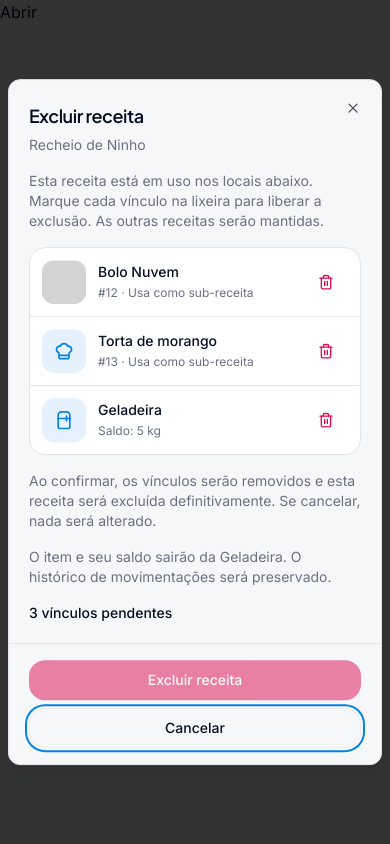
Scenario: Recipe deletion confirmation › includes the fridge balance and defers its removal until confirmation
This screenshot has width=390, height=844.
Expected: the text "Bolo Nuvem" is shown, [98,263,179,280]
Click the button named "Remover vínculo com Bolo Nuvem" at x=326, y=282, box [304,260,348,304]
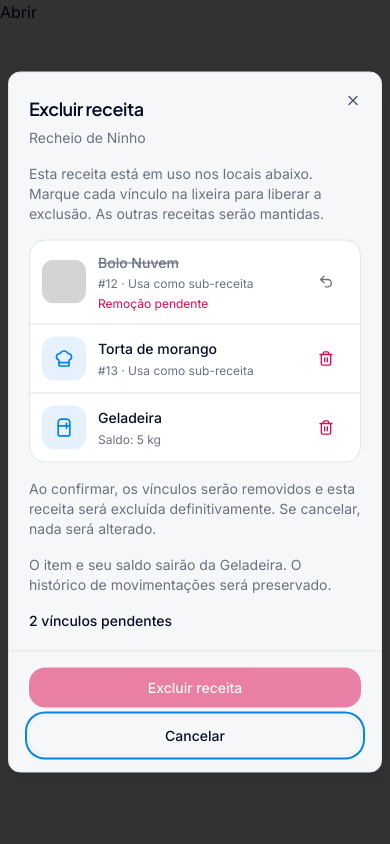
Click the button named "Remover vínculo com Torta de morango" at x=326, y=358, box [304,336,348,380]
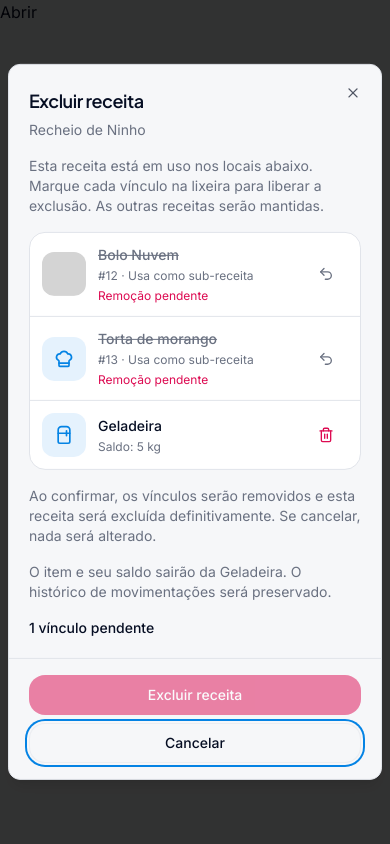
Expected: the text "Saldo: 5 kg" is shown, [98,439,161,454]
Expected: the button "Excluir receita" is disabled, [29,675,361,715]
Click the button named "Remover vínculo com Geladeira" at x=326, y=435, box [304,413,348,457]
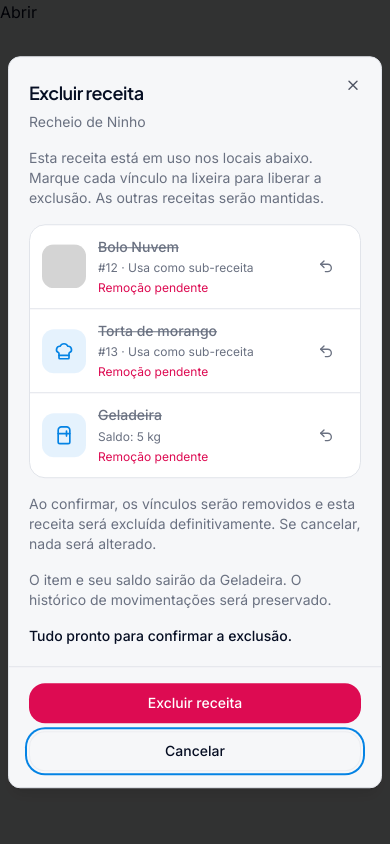
Now the button "Excluir receita" is enabled, box [29,683,361,723]
